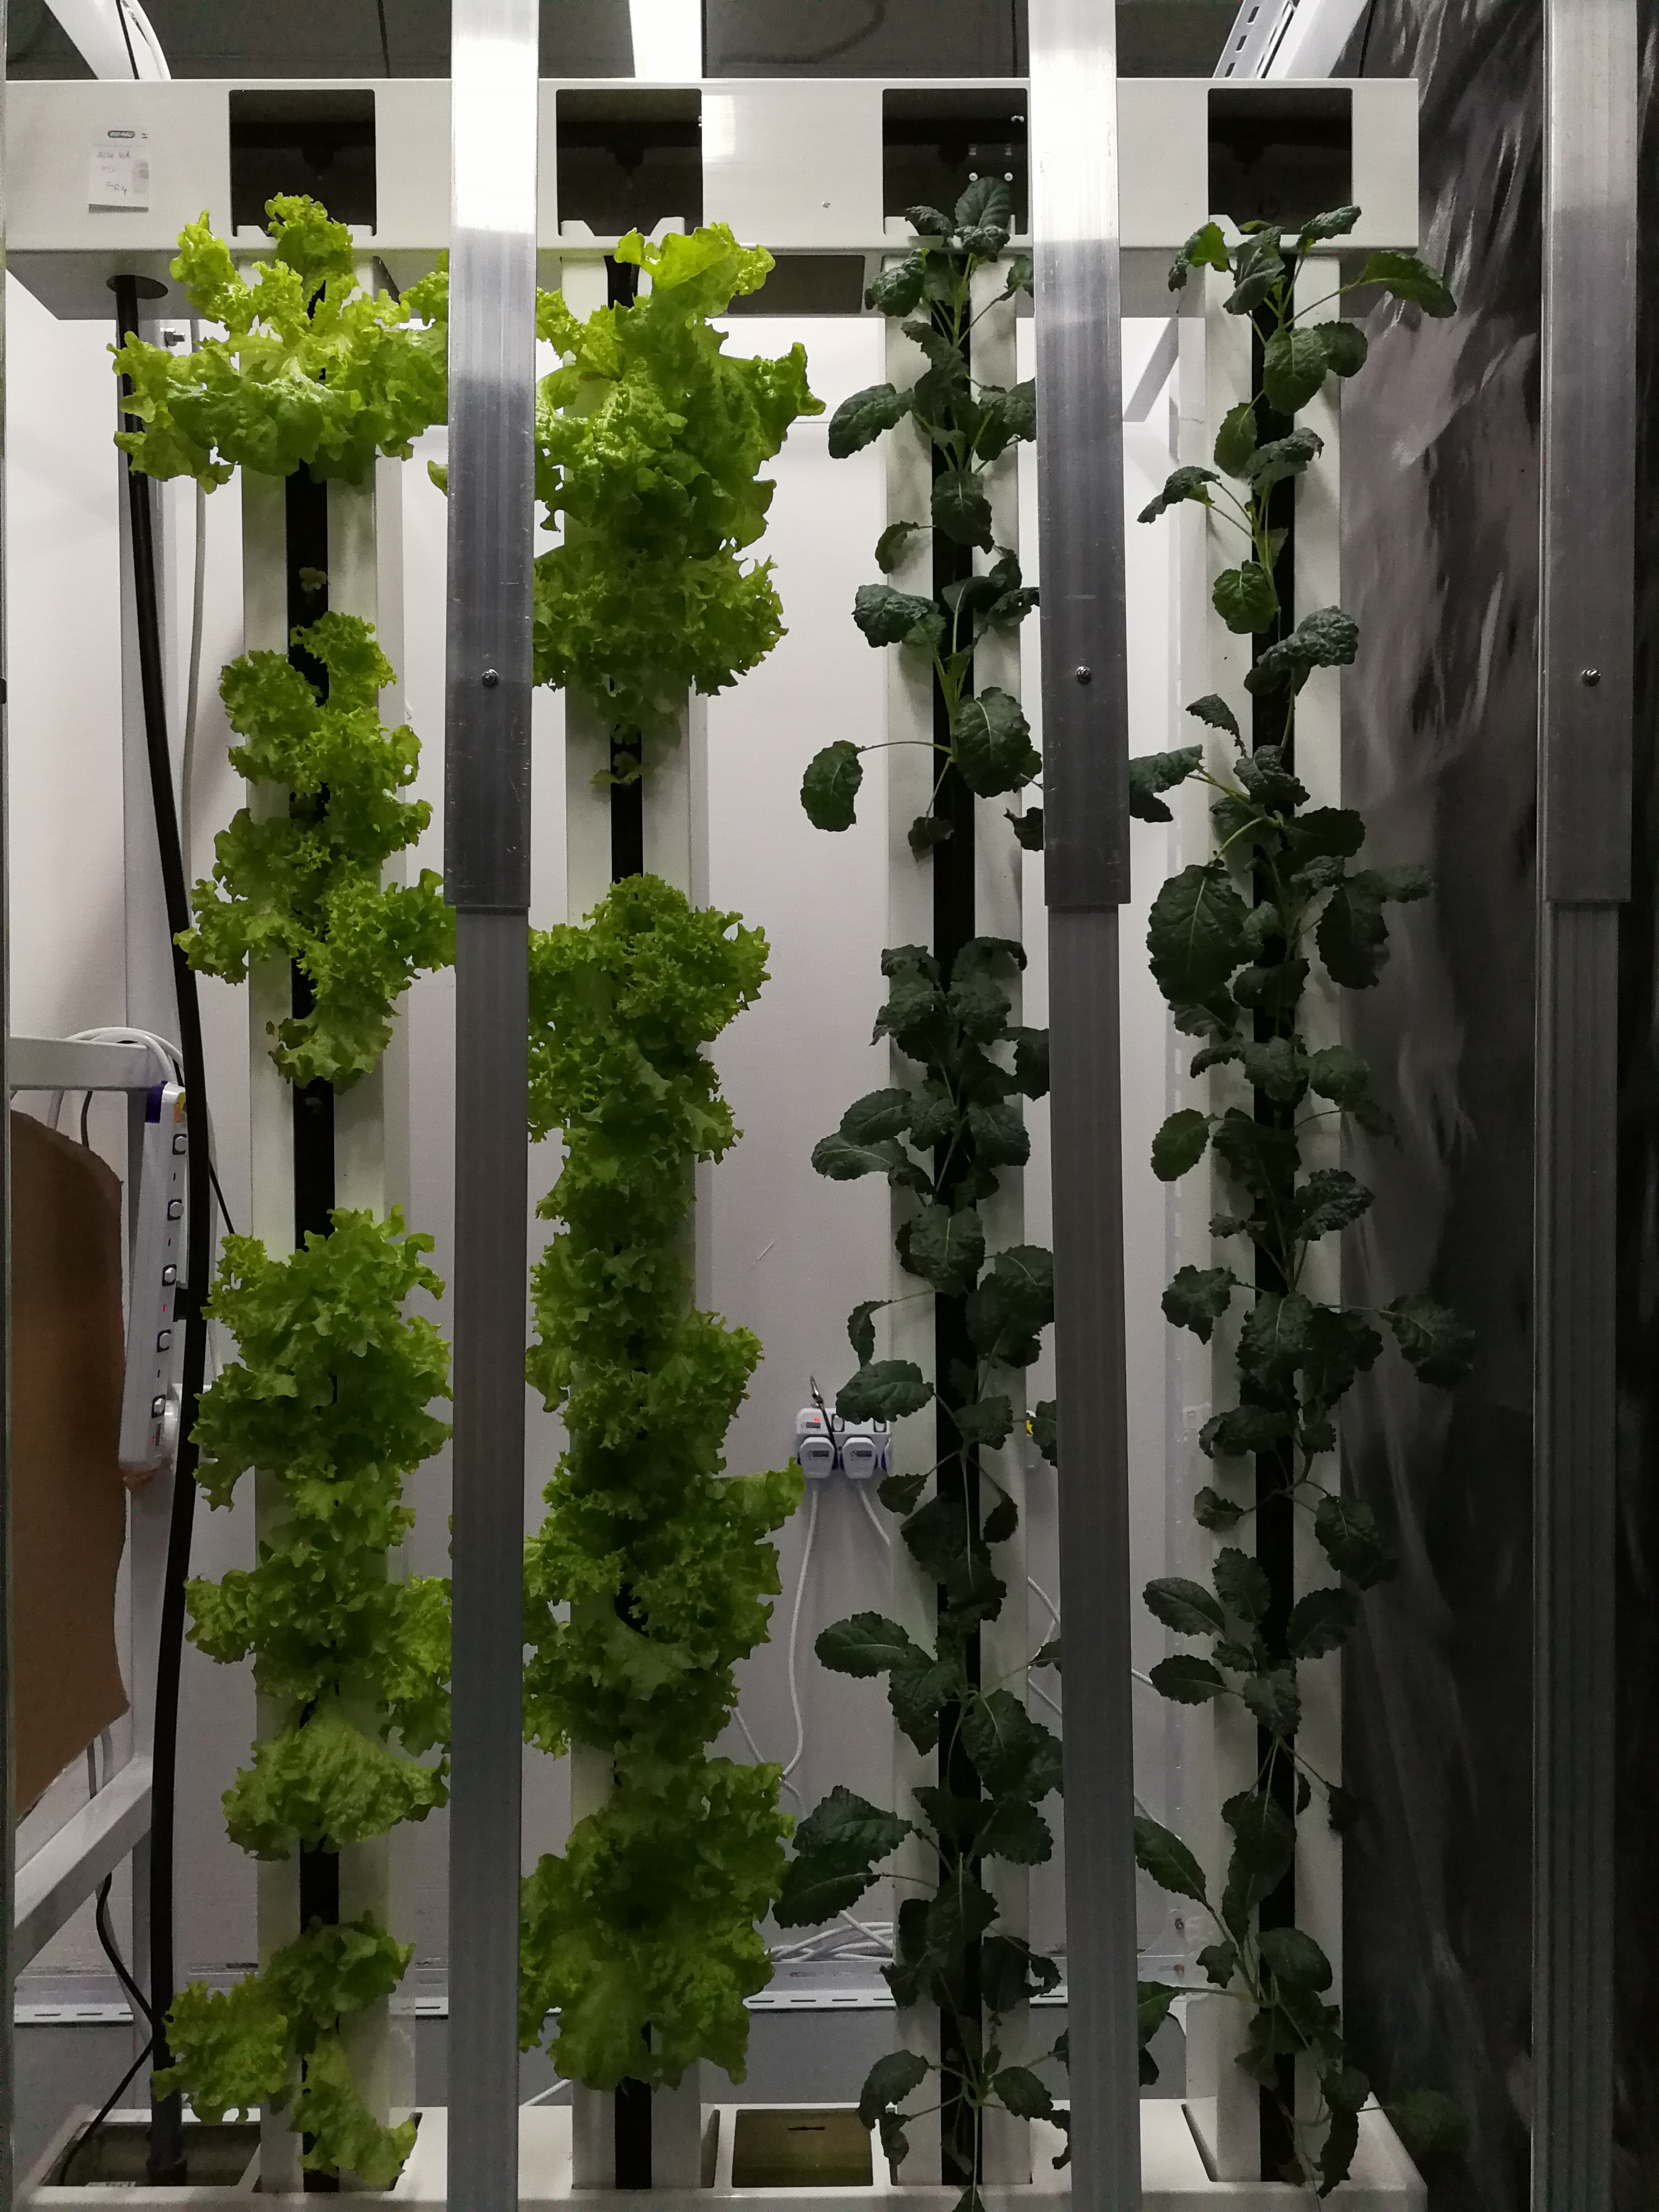leaf: (87, 165, 450, 524), (117, 792, 484, 1111), (464, 394, 810, 723), (476, 1752, 809, 2094), (495, 852, 786, 1235), (146, 1193, 474, 1533), (115, 1893, 467, 2205), (138, 1541, 472, 1869), (502, 230, 833, 524), (502, 1212, 807, 1521), (171, 606, 446, 878), (502, 1474, 774, 1743)
leaf2: (1119, 1782, 1453, 2198), (1133, 1541, 1443, 1916), (814, 918, 1070, 1291), (791, 568, 1093, 874), (1147, 1183, 1488, 1430), (1119, 956, 1439, 1214), (769, 1773, 1091, 2027), (1169, 192, 1446, 482), (1129, 608, 1391, 902), (835, 1298, 1063, 1620), (796, 1599, 1086, 1839), (1121, 420, 1408, 641), (850, 1982, 1093, 2212), (842, 322, 1058, 573), (1162, 1400, 1439, 1575), (854, 169, 1039, 401)
